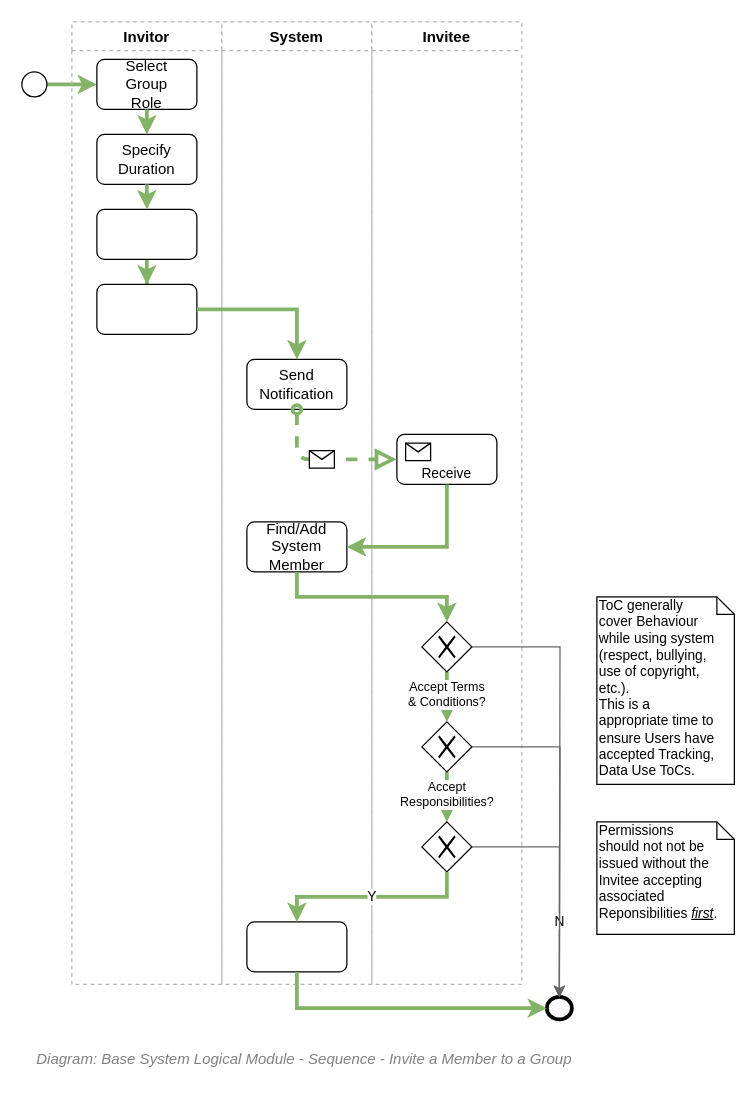
This 756x1094 diagram has some shape labels left out. Each missing label, with the centre of its shape:
Accept Permissions?: [446,846]
Add Member to Group as Role: [296,946]
end: [559,1007]
Optionally Adjust Permissions: [146,308]
Specify User: [146,233]
start: [34,84]
